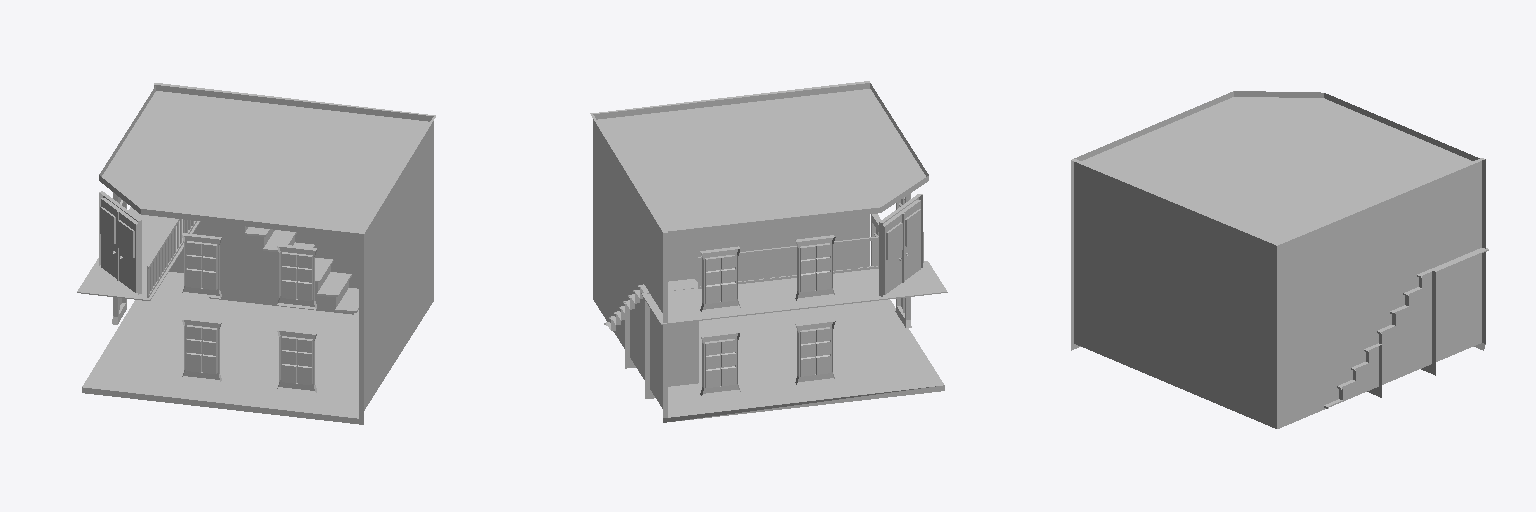
File: SaloonInside.obj
3 renders of one model, left to right at view 1: azimuth 30°, elevation 25°; view 2: azimuth 150°, elevation 25°; view 3: azimuth 270°, elevation 25°, orthographic.
Visible parts, largest first — view 1: pasted__pasted__pCube40; view 2: pasted__pasted__pCube40; view 3: pasted__pasted__pCube40.
Boxes of the visible parts, box(x1,y1,x2,y2) form: pasted__pasted__pCube40: box(77, 83, 435, 424); pasted__pasted__pCube40: box(590, 81, 947, 422); pasted__pasted__pCube40: box(1071, 91, 1488, 428).
Size of the model in its own units: 25.9 by 13.48 by 26.19.